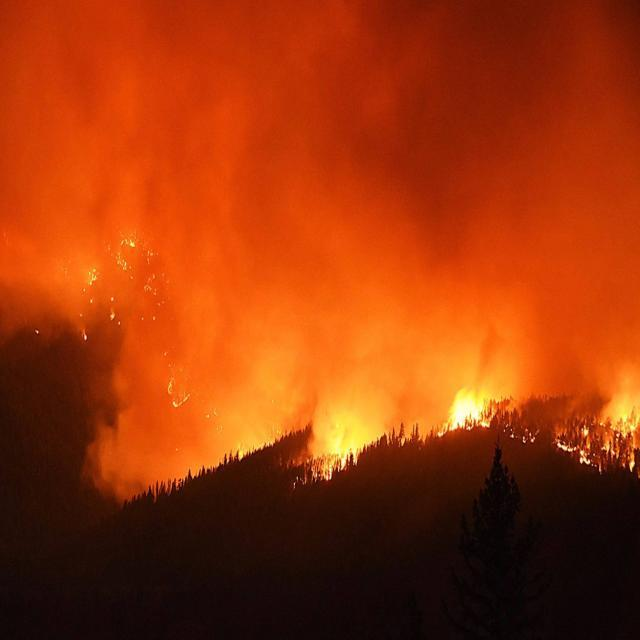Fire: (0, 234, 640, 499)
Smoke: (0, 0, 640, 489)
